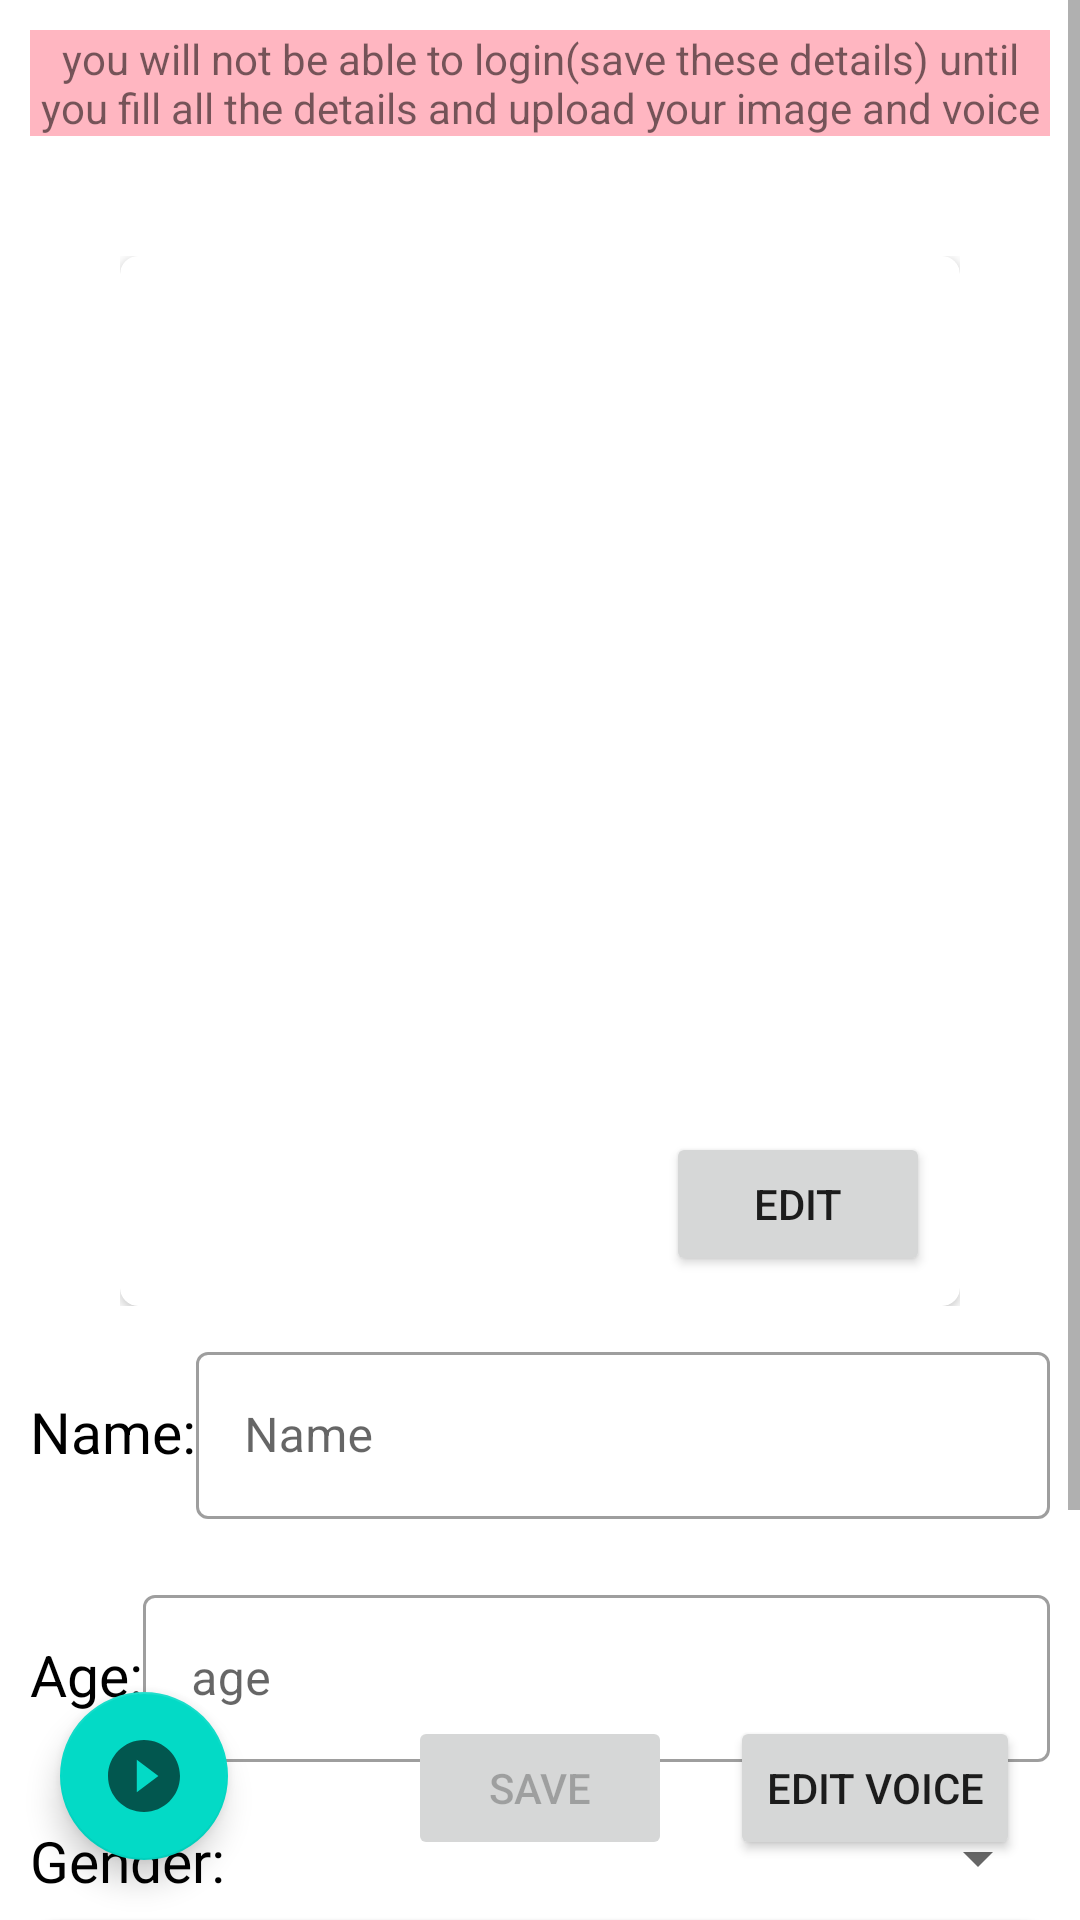

Icons on this 1080*1920 Android screen, each with its box as (x1, y1, x2, y2):
play: (60, 1692, 228, 1860)
